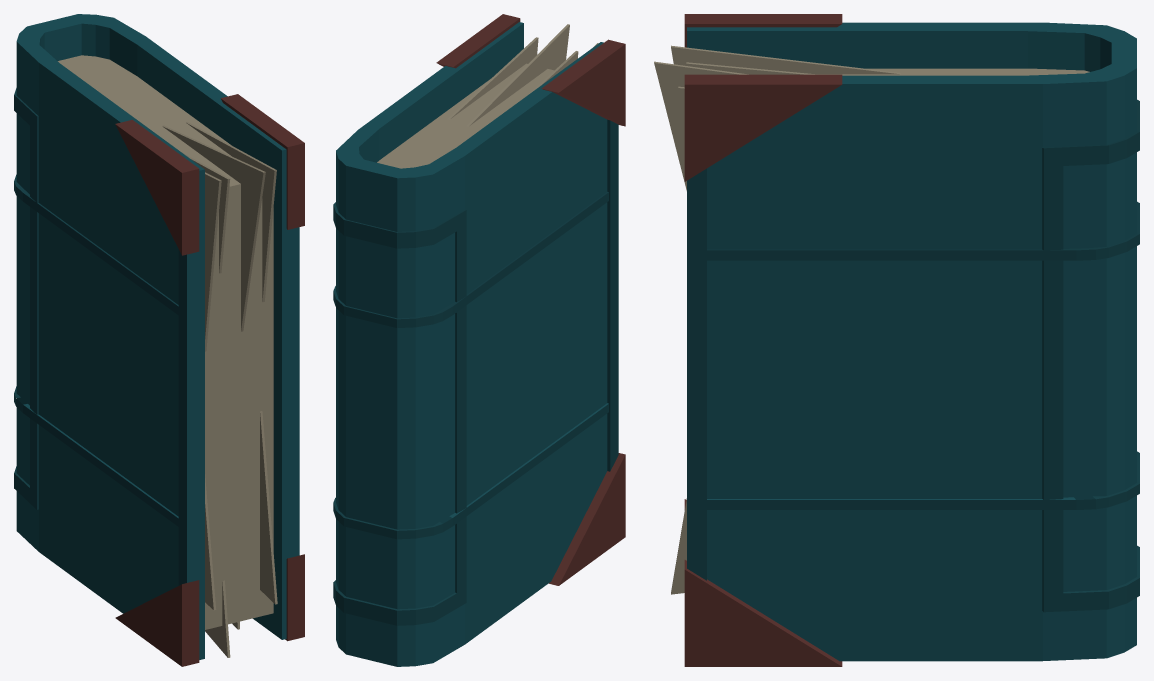
File: Book4_Closed.glb
The picture shows the model from 3 angles, left to right: view 1: azimuth 30°, elevation 25°; view 2: azimuth 150°, elevation 25°; view 3: azimuth 270°, elevation 25°; orthographic projection. The views are drawn at different scales.
Visible parts, largest first — view 1: Book4_Closed_Cube.053; view 2: Book4_Closed_Cube.053; view 3: Book4_Closed_Cube.053.
Boxes of the visible parts, x1,y1,x2,y2 form: Book4_Closed_Cube.053: (14, 14, 304, 666); Book4_Closed_Cube.053: (333, 14, 625, 666); Book4_Closed_Cube.053: (654, 14, 1139, 666).
Bounding box in the file's own units: 0.2074 × 0.8068 × 0.6028.
